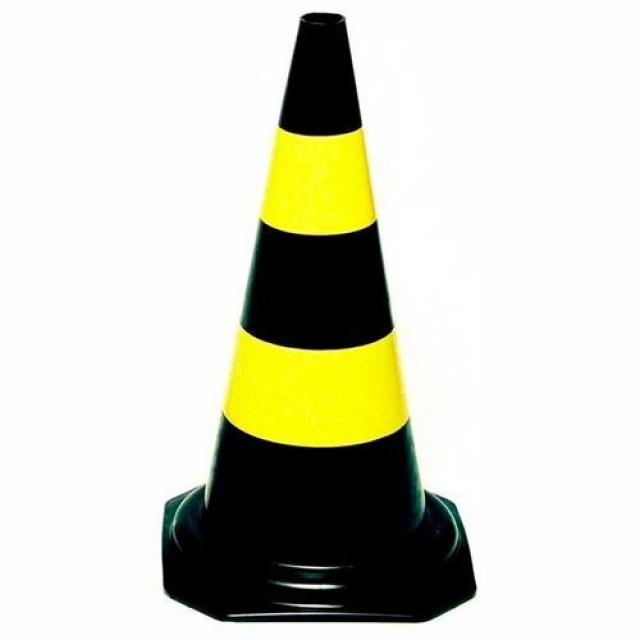cone: (176, 8, 457, 616)
